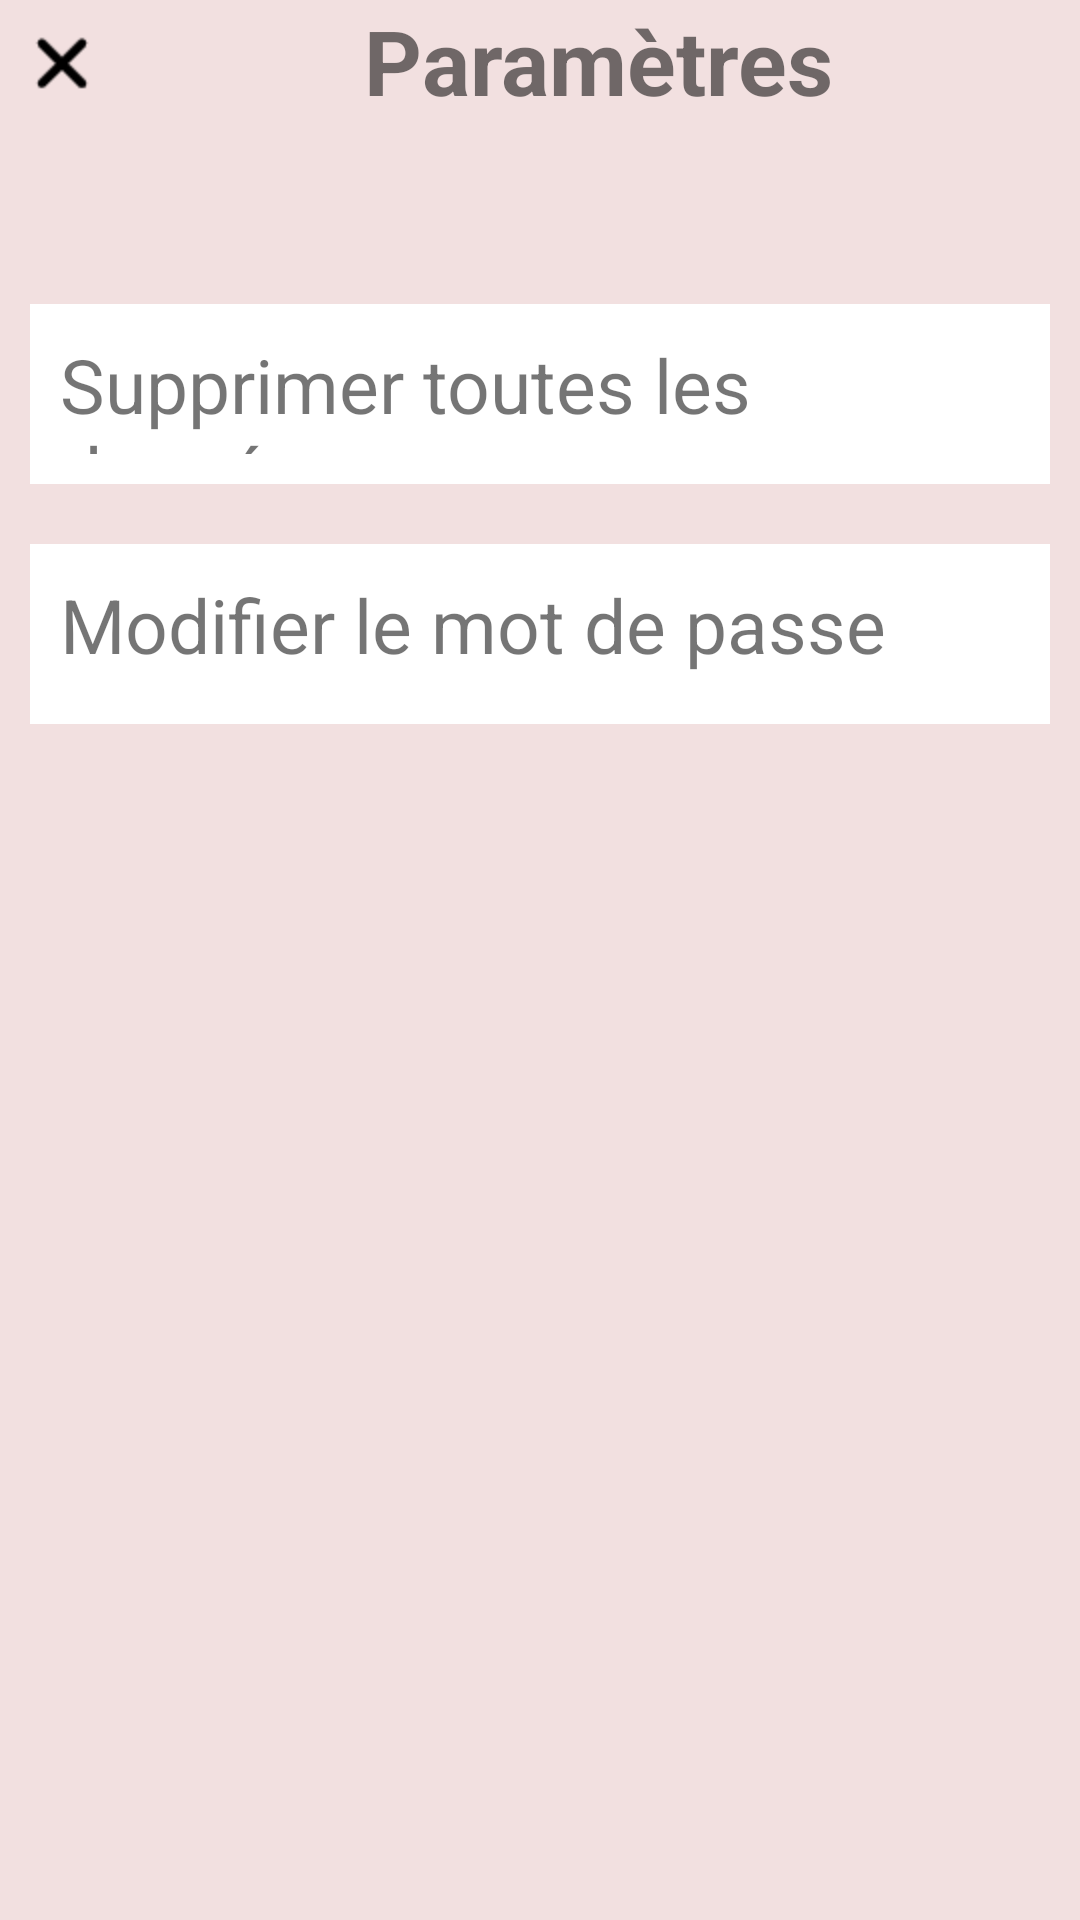

Icons on this 1080w x 1920h Android screen, each with its box as box=[x1, y1, x2, y2]:
cross: box=[36, 37, 88, 89]
